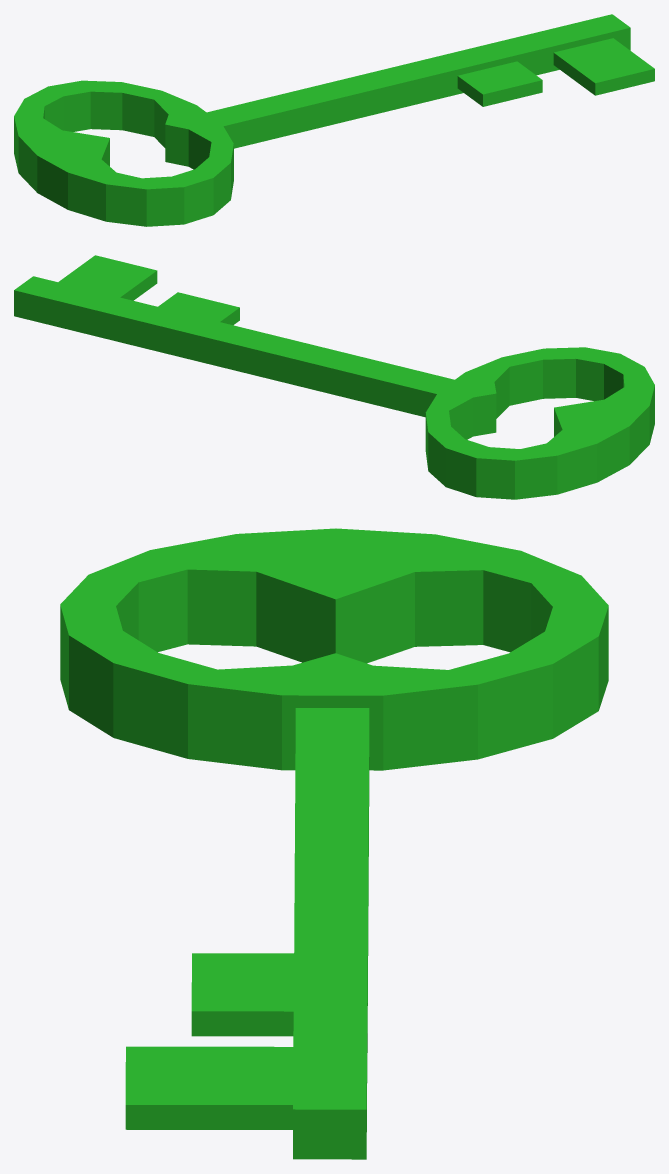
File: Chave_Verde.fbx
3 renders of one model, top to bottom at view 1: azimuth 30°, elevation 25°; view 2: azimuth 150°, elevation 25°; view 3: azimuth 270°, elevation 25°, orthographic. The views are drawn at different scales.
Visible parts, largest first — view 1: Chaves_Coloridas; view 2: Chaves_Coloridas; view 3: Chaves_Coloridas.
Part boxes in pixels (x1,y1,x2,y2): Chaves_Coloridas: (14, 14, 654, 226); Chaves_Coloridas: (14, 255, 654, 499); Chaves_Coloridas: (60, 528, 608, 1159).
Bounding box in the file's own units: 488 × 30 × 199.
